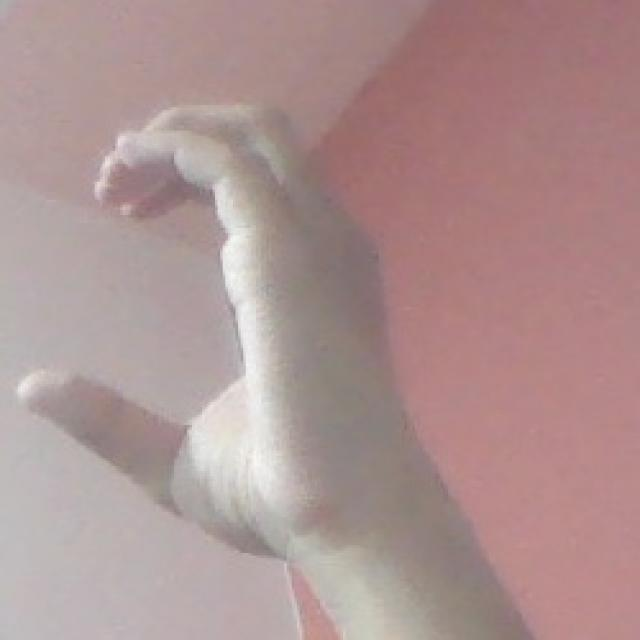Alphabet-C: (17, 88, 419, 554)
